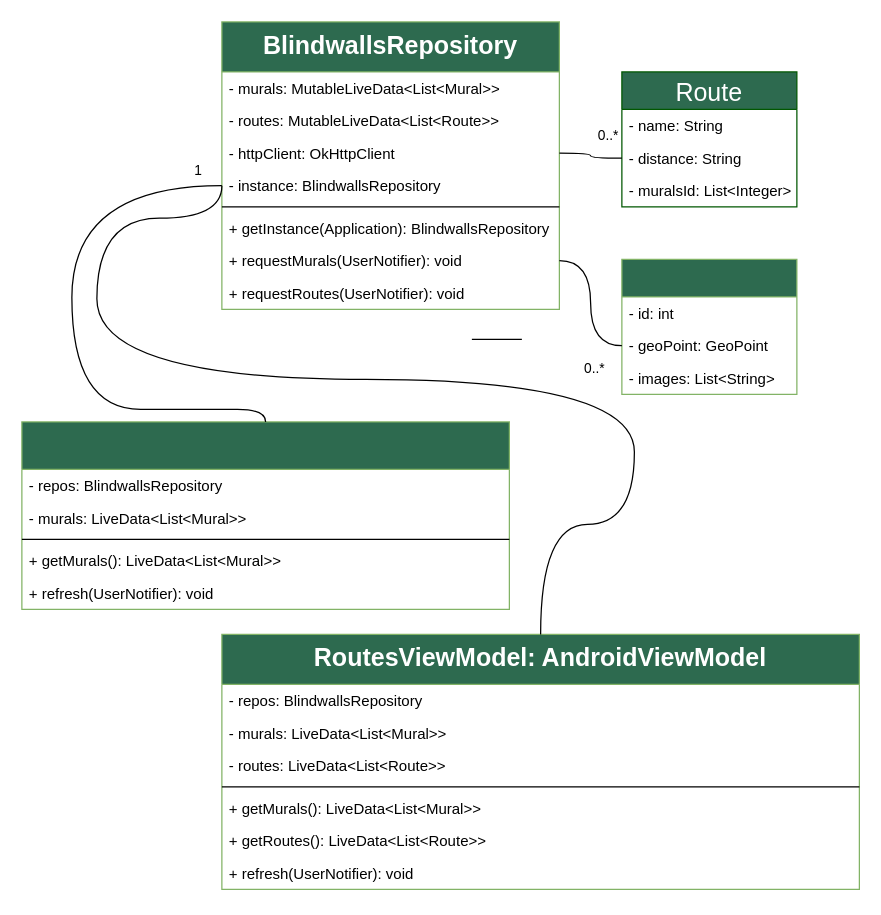
This 881x915 diagram has some shape labels left out. The shapes that lost their labels are listed below. From the top down, each one's box as (x1, y1, x2, y2) in pixels, then its label:
(621, 258, 797, 394): Mural
(21, 421, 509, 609): MuralsViewModel: AndroidViewModel
